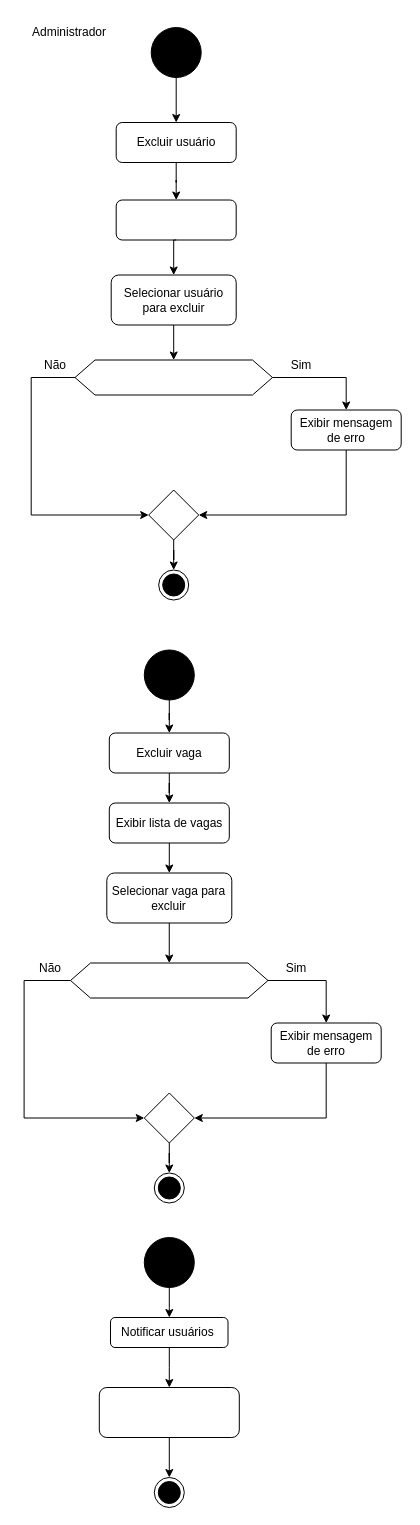
Some shapes in this 420 by 1525 pixel diagram are drawn without their labels. Each missing label, with the box of its shape:
Envia a notificação para os usuários determinados: (98, 1386, 239, 1438)
Erro ao deletar usuário?: (74, 359, 272, 395)
Erro ao deletar vaga?: (70, 962, 268, 998)
Exibir lista de usuários: (115, 199, 236, 240)
